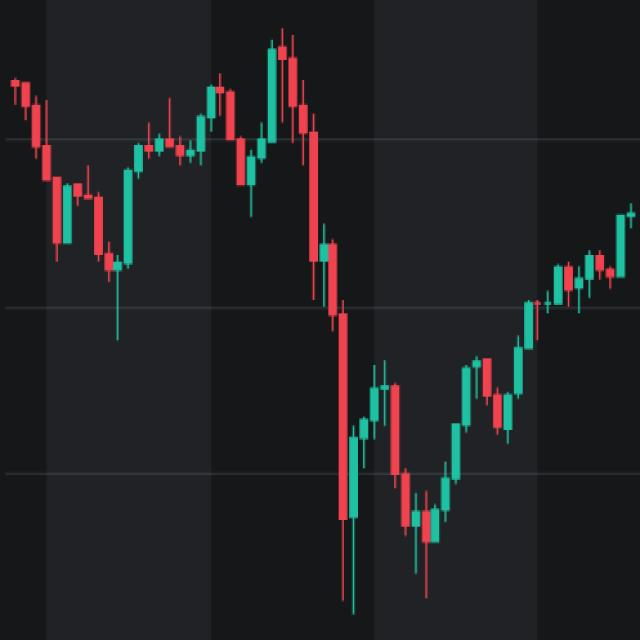Rising-Wedge: (266, 239, 620, 640)
